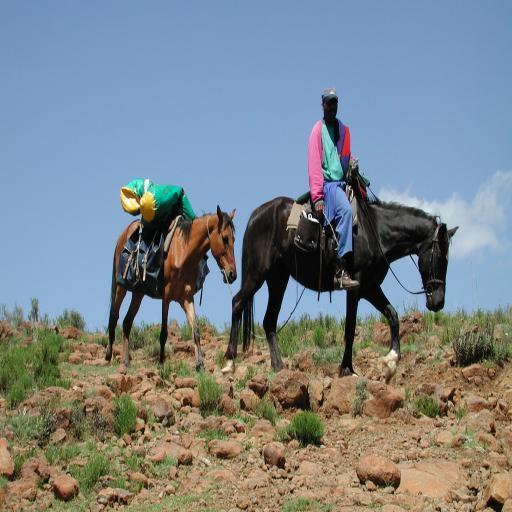horse: (220, 196, 458, 378), (104, 204, 236, 374)
